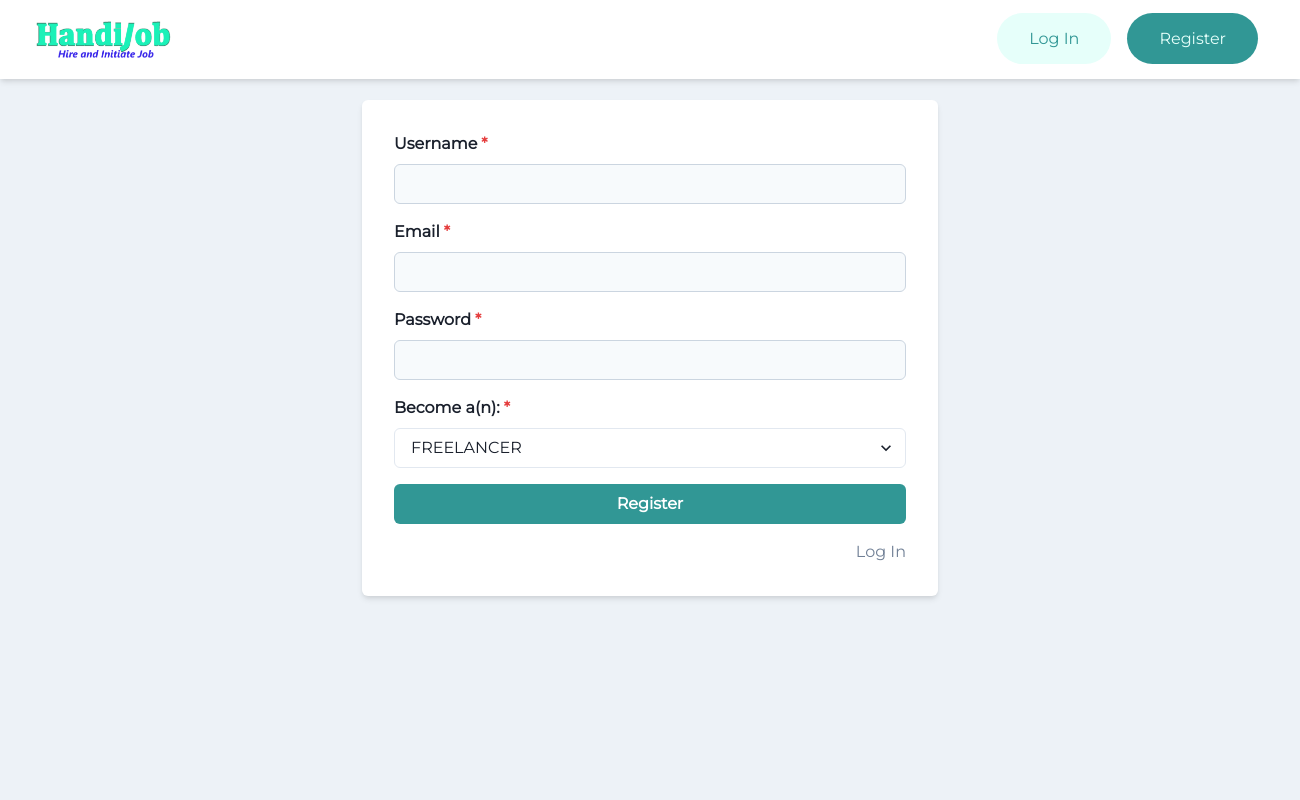
Register Form › should show error if email is invalid
In the field labelled "Email*": (650, 272) [394,252,906,292], type "test"
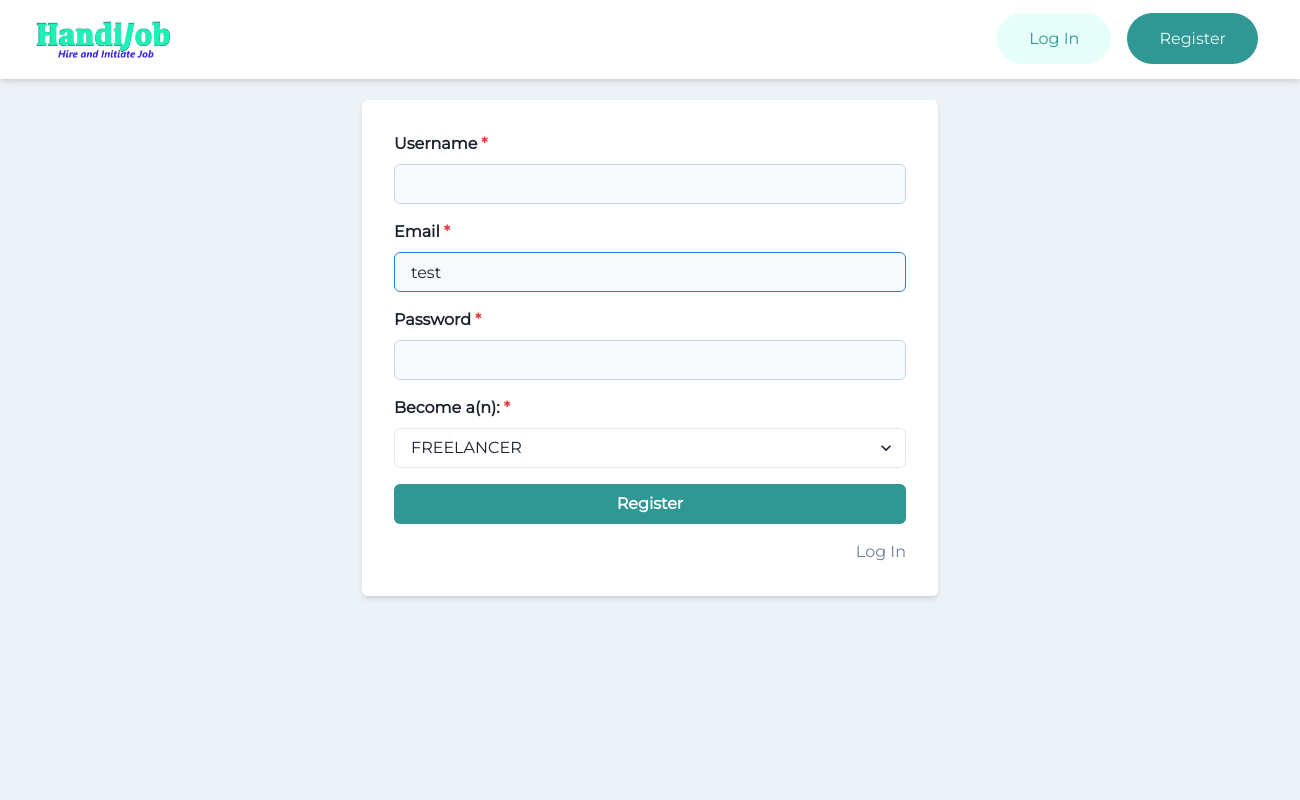
Leave the field labelled "Email*", box [394,252,906,292]
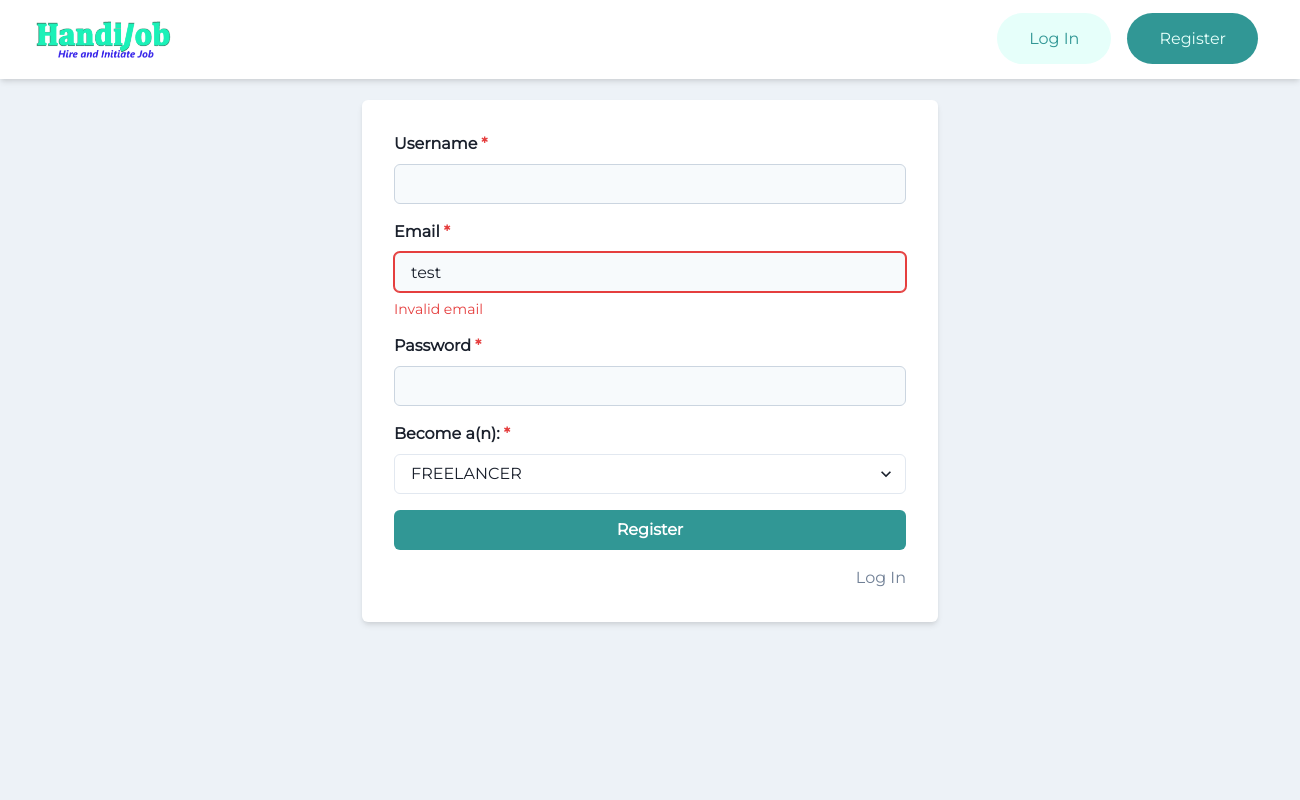
Now the text "Invalid email" is shown, box [394,300,483,318]
